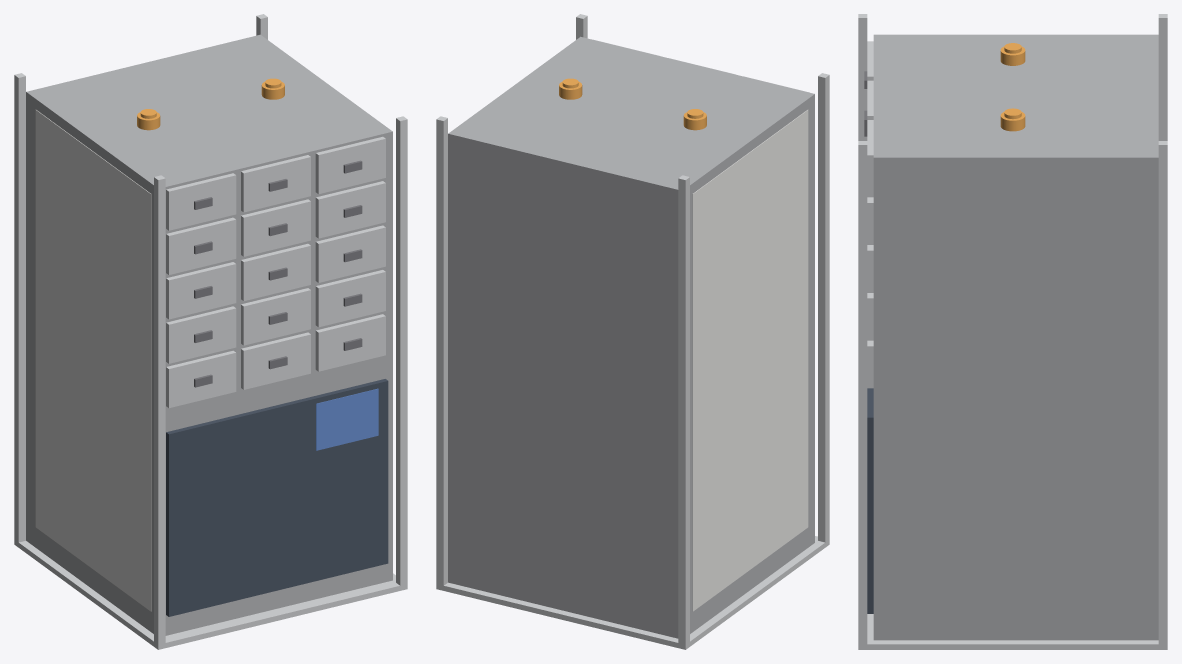
The model's file is sci04_experiment_rack.glb.
3 renders of one model, left to right at view 1: azimuth 30°, elevation 25°; view 2: azimuth 150°, elevation 25°; view 3: azimuth 270°, elevation 25°, orthographic. The views are drawn at different scales.
Parts seen in each view (by area): view 1: rack_body, side_blanket, drawers, glovebox, slot_frame, control_panel, drawer_handles; view 2: rack_body, side_blanket, slot_frame; view 3: rack_body, slot_frame, drawers, glovebox, port_2, port_1.
Part boxes in pixels (x1,y1,x2,y2): rack_body: [26, 34, 392, 635]; side_blanket: [35, 110, 151, 611]; drawers: [166, 136, 385, 408]; glovebox: [166, 379, 388, 616]; slot_frame: [14, 14, 407, 649]; control_panel: [316, 388, 378, 450]; drawer_handles: [194, 160, 362, 387]; rack_body: [448, 36, 814, 638]; side_blanket: [692, 110, 808, 611]; slot_frame: [436, 14, 829, 649]; rack_body: [873, 34, 1158, 640]; slot_frame: [858, 14, 1167, 649]; drawers: [867, 41, 873, 388]; glovebox: [867, 388, 873, 613]; port_2: [1000, 108, 1025, 131]; port_1: [1000, 43, 1025, 65].
Size of the model in its own units: 1 by 1.8 by 1.
